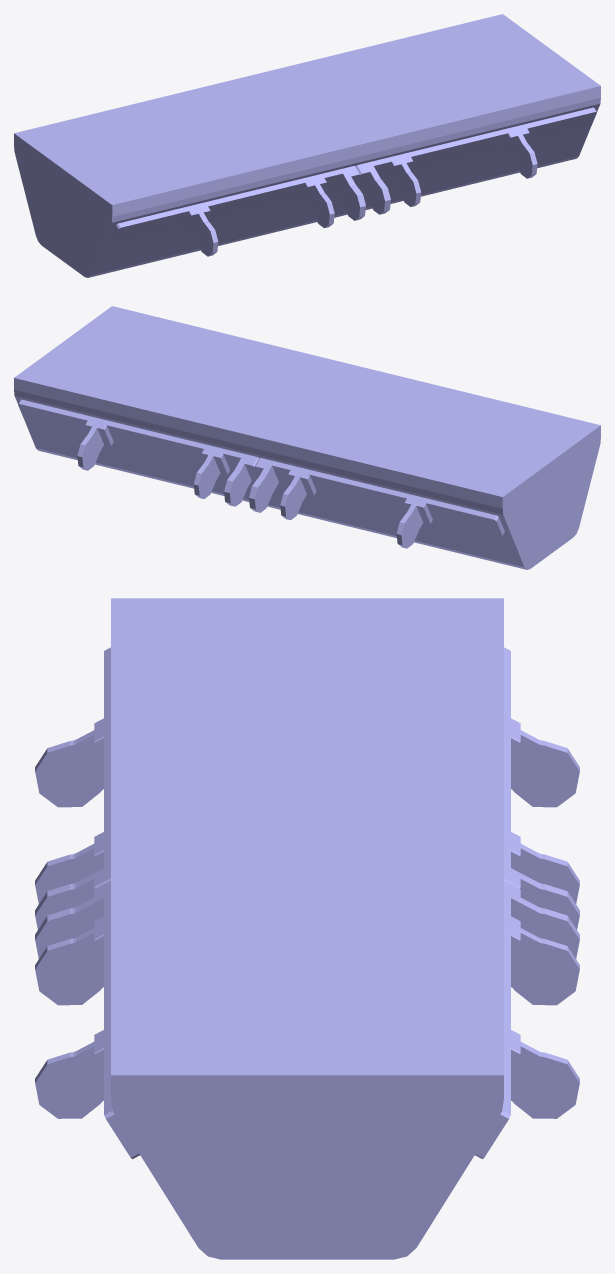
File: trunk.dae
The picture shows the model from 3 angles, top to bottom: view 1: azimuth 30°, elevation 25°; view 2: azimuth 150°, elevation 25°; view 3: azimuth 270°, elevation 25°; orthographic projection. The views are drawn at different scales.
Parts seen in each view (by area): view 1: node_005; view 2: node_005; view 3: node_005.
Boxes of the visible parts, bbox=[...] form: node_005: bbox=[14, 14, 600, 277]; node_005: bbox=[14, 306, 600, 569]; node_005: bbox=[35, 598, 579, 1259].
Bounding box in the file's own units: 1 × 0.4826 × 0.18.
